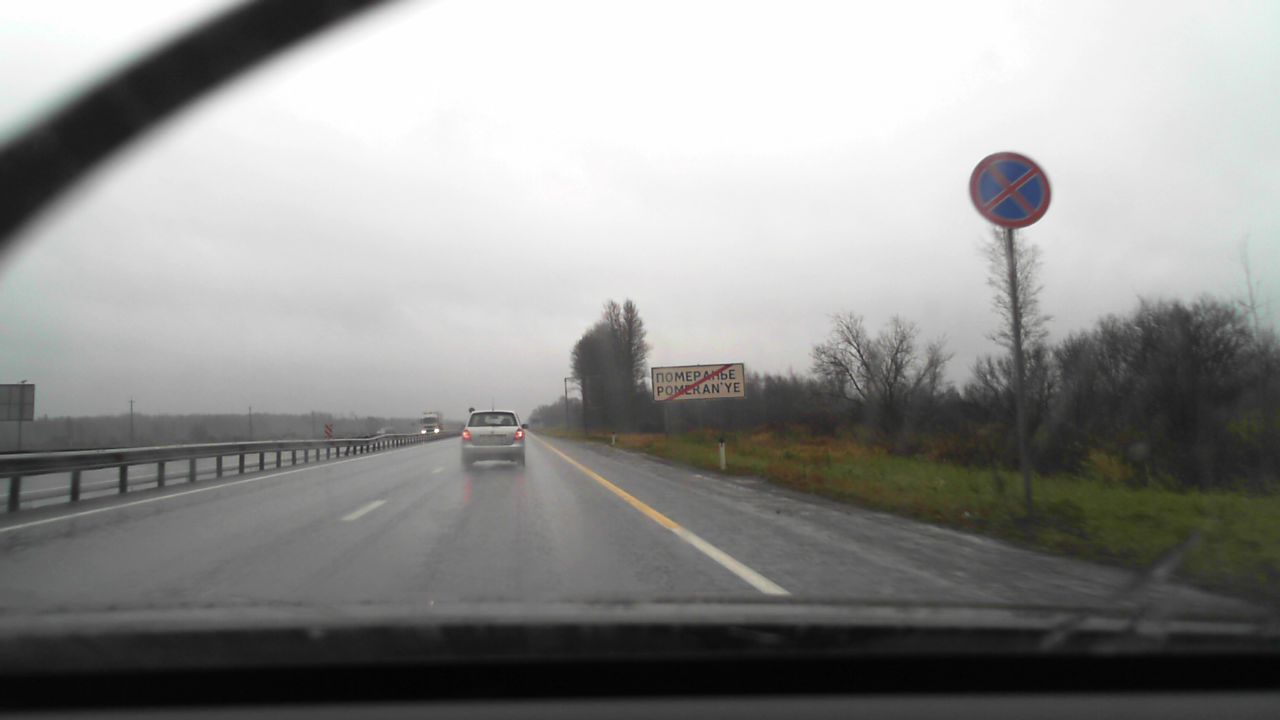No Parking: (969, 152, 1052, 229)
